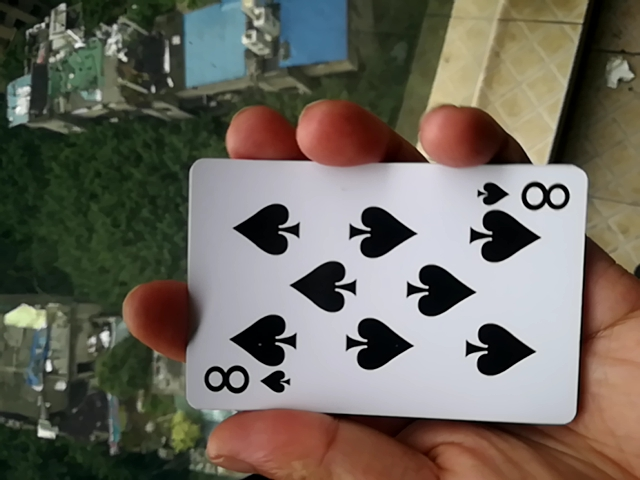ht 8: (157, 151, 575, 436)
